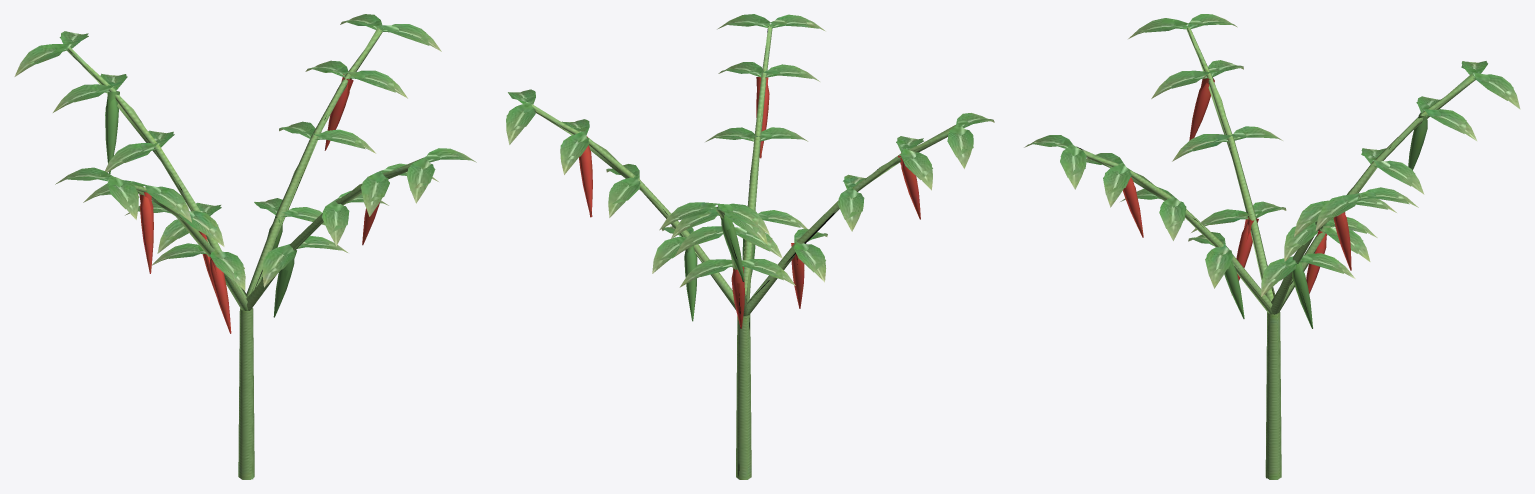
File: chile.glb
3 renders of one model, left to right at view 1: azimuth 30°, elevation 25°; view 2: azimuth 150°, elevation 25°; view 3: azimuth 270°, elevation 25°, orthographic. The views are drawn at different scales.
Visible parts, largest first — view 1: chile, chile_lp; view 2: chile, chile_lp; view 3: chile, chile_lp.
Boxes of the visible parts, box(x1,y1,x2,y2) form: chile: box(14, 14, 476, 479); chile_lp: box(24, 19, 471, 479); chile: box(506, 14, 994, 479); chile_lp: box(506, 18, 993, 479); chile: box(1024, 14, 1520, 479); chile_lp: box(1032, 17, 1513, 478).
Size of the model in its own units: 0.6632 by 0.558 by 0.6827.
Materials: 2 (2 with a texture image).
